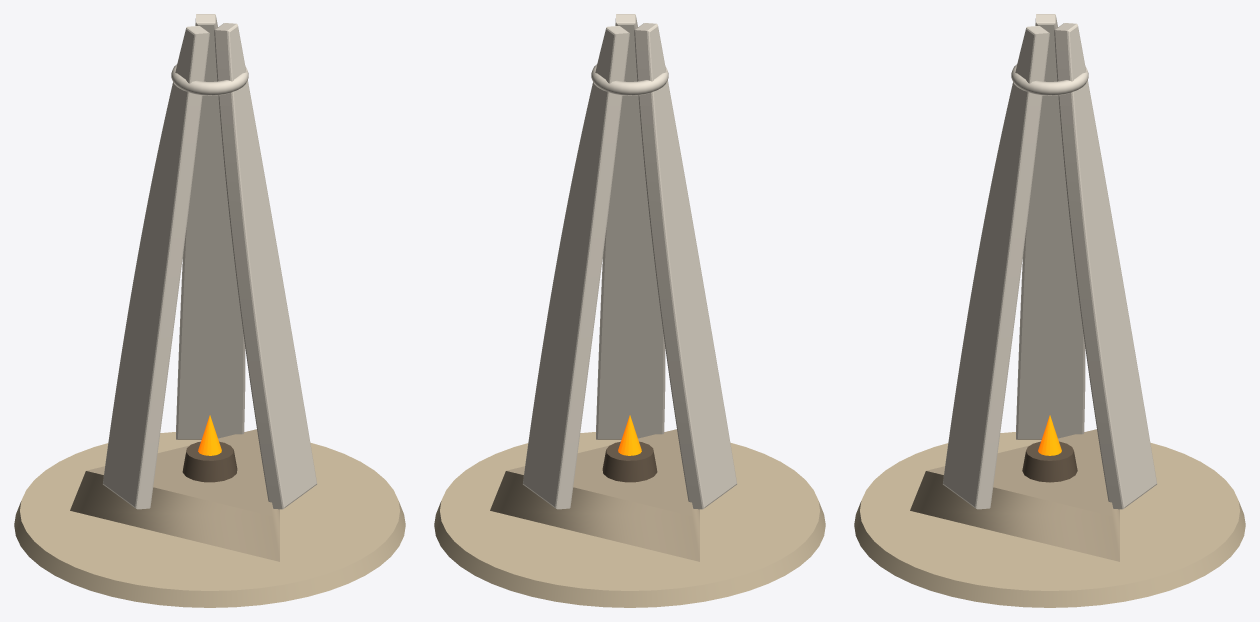
The model's file is memorial.glb.
3 views of the same model, side by side, from view 1: azimuth 30°, elevation 25°; view 2: azimuth 150°, elevation 25°; view 3: azimuth 270°, elevation 25° (orthographic).
Visible parts, largest first — view 1: leaf, ground, base, flame, object 4; view 2: leaf, ground, base, flame, object 4; view 3: leaf, ground, base, flame, object 4.
Part boxes in pixels (x1,y1,x2,y2): leaf: (103,14,317,509); ground: (14,432,405,607); base: (70,429,279,561); flame: (182,415,237,482); object 4: (171,64,248,95); leaf: (523,14,737,509); ground: (434,432,825,607); base: (490,429,699,561); flame: (602,415,657,482); object 4: (591,64,668,95); leaf: (943,14,1157,509); ground: (854,432,1245,607); base: (910,429,1119,561); flame: (1022,415,1077,482); object 4: (1011,64,1088,95).
Size of the model in its own units: 1.96 by 2.76 by 1.96.
